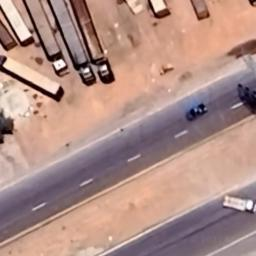SUV: (219, 191, 256, 214)
truck: (69, 0, 119, 89), (48, 0, 97, 83), (23, 0, 73, 76), (0, 55, 69, 105), (0, 0, 36, 46), (0, 21, 23, 53)
unknown: (190, 0, 218, 24), (184, 102, 212, 124), (148, 0, 170, 20)
